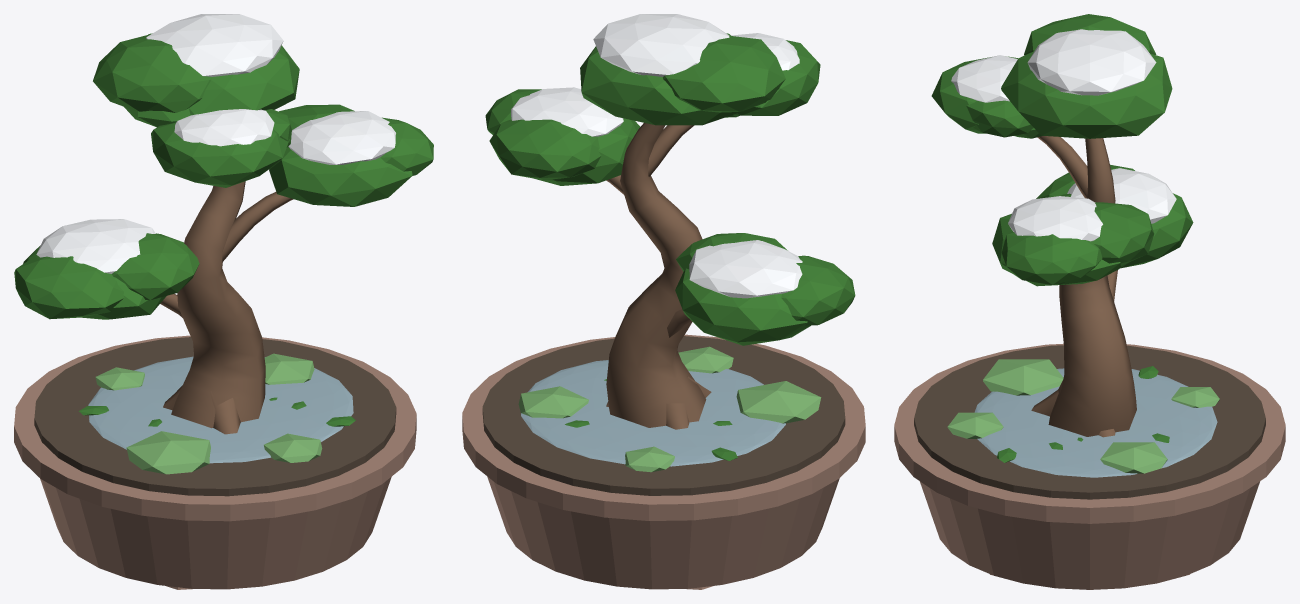
The model's file is bonsai_3_mature.glb.
3 views of the same model, side by side, from view 1: azimuth 30°, elevation 25°; view 2: azimuth 150°, elevation 25°; view 3: azimuth 270°, elevation 25° (orthographic). The views are drawn at different scales.
Parts seen in each view (by area): view 1: pot, foliage, soil, snow, trunk, puddle, moss, fallen; view 2: pot, foliage, soil, trunk, snow, puddle, moss; view 3: pot, foliage, soil, snow, trunk, puddle, moss, fallen.
Boxes of the visible parts, x1,y1,x2,y2 form: pot: (14,335,416,589); foliage: (14,33,433,319); soil: (34,337,396,496); snow: (36,14,395,273); trunk: (160,181,293,434); puddle: (88,356,353,463); moss: (95,353,322,474); fallen: (79,397,355,426); pot: (462,334,865,589); foliage: (485,33,855,345); soil: (482,336,845,495); trunk: (606,123,711,429); snow: (511,14,802,298); puddle: (521,360,785,466); moss: (518,346,821,472); pot: (894,343,1285,589); foliage: (931,14,1193,286); soil: (914,345,1265,499); snow: (951,29,1176,241); trunk: (1031,136,1136,437); puddle: (974,368,1217,477); moss: (947,359,1219,473); fallen: (997,366,1169,462).
Bounding box in the file's own units: 0.1923 × 0.2443 × 0.178.
